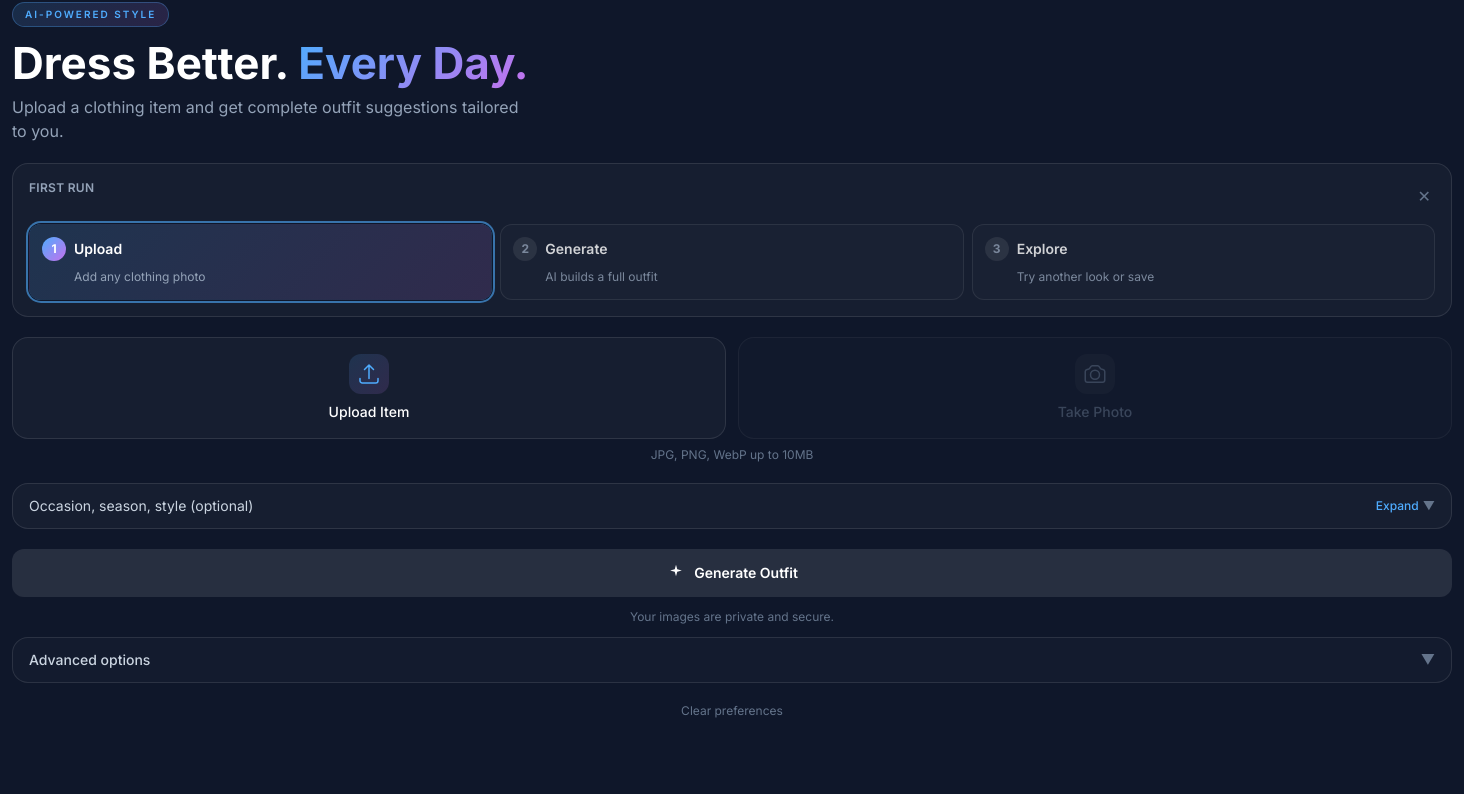
Scenario: Sidebar file validation › contextual micro-help › shows model preview micro-help when admin model generation controls are visible
This screenshot has width=1464, height=794.
Click the text "Advanced options" at (90, 660), box [29,650,150,670]
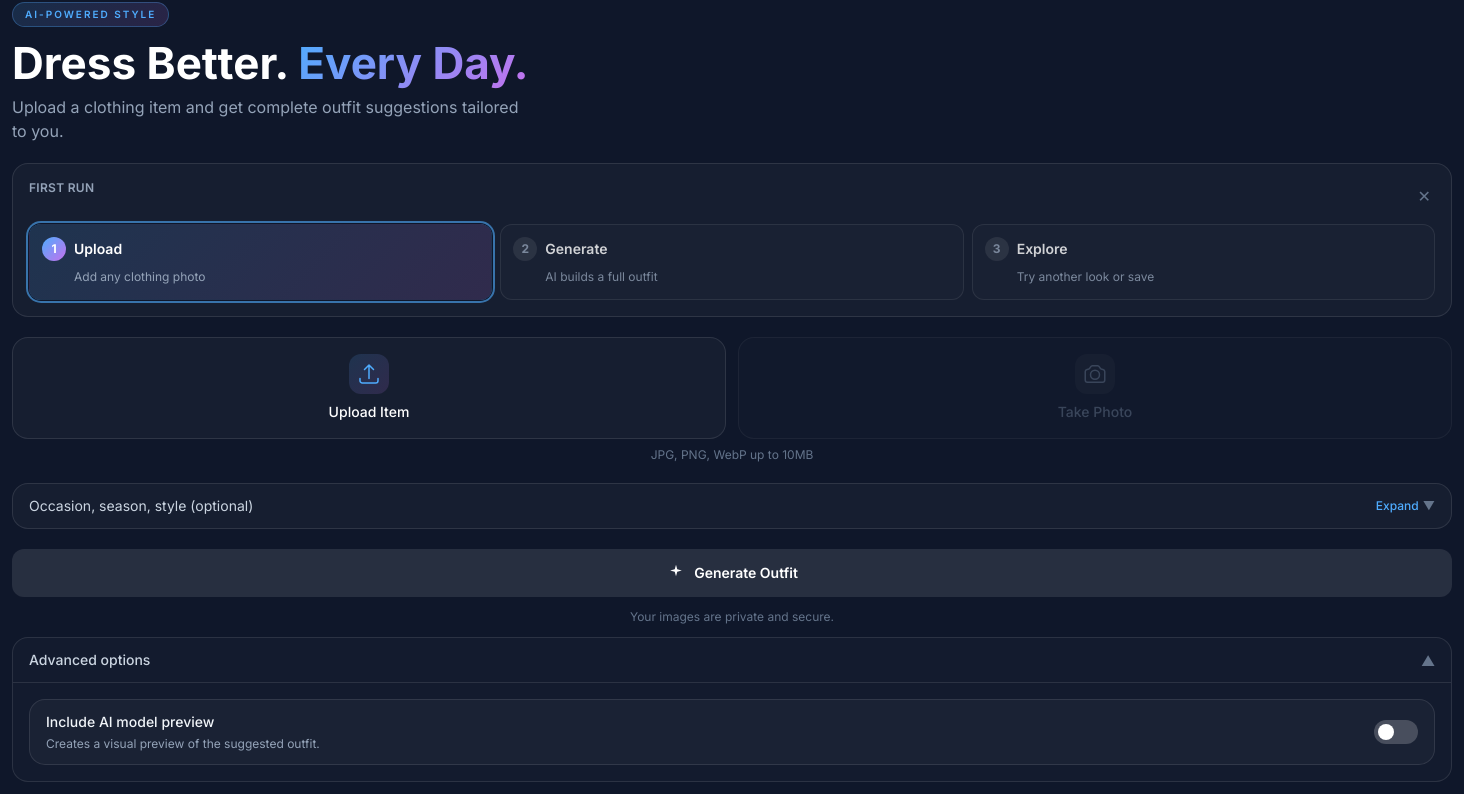
Expected: the text "Creates a visual preview of the suggested outfit." is shown, [46,736,320,752]
